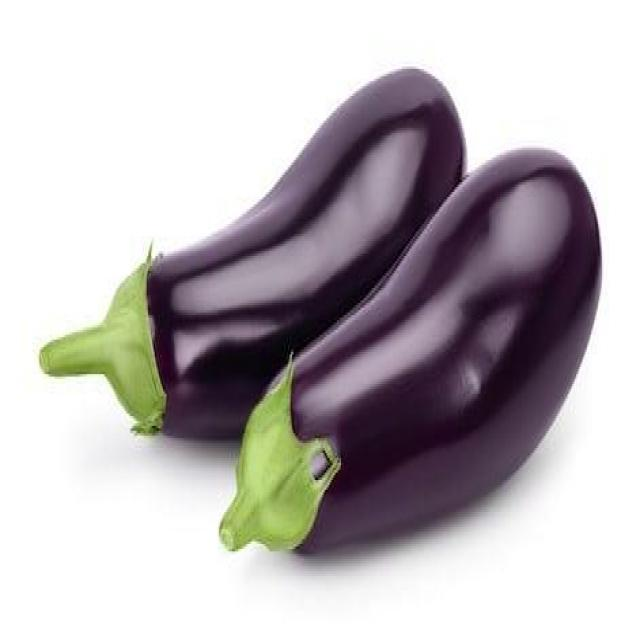eggplant: (221, 148, 608, 595), (99, 122, 261, 434)
